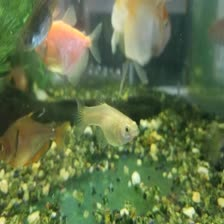Cuezo: (110, 0, 167, 88)
Guppy: (72, 94, 144, 146), (14, 0, 53, 55)
Plano: (36, 3, 99, 77)
Transparente: (0, 104, 67, 172)
